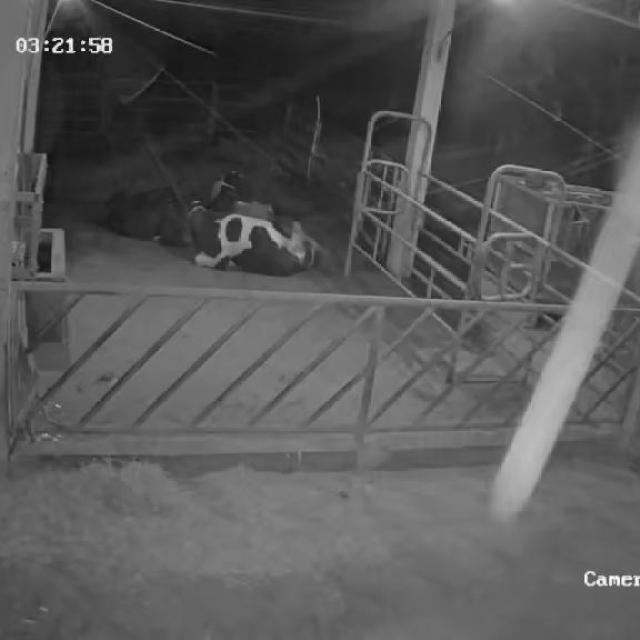lying down: (176, 195, 322, 282), (95, 174, 194, 248), (200, 166, 278, 225)
